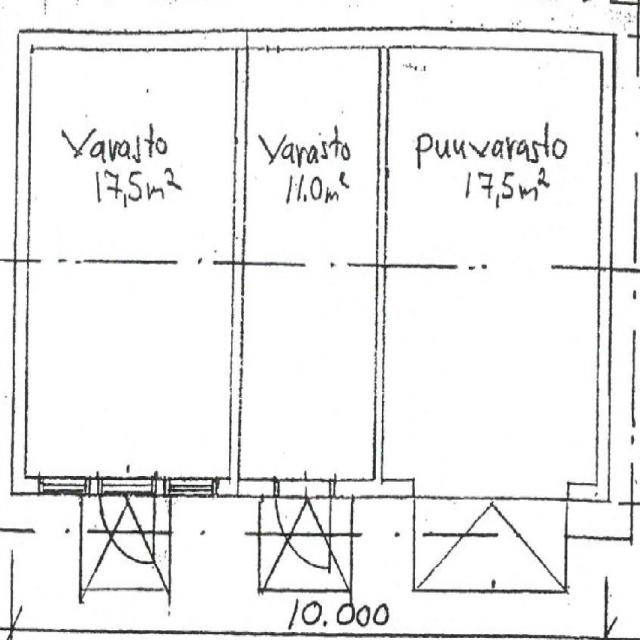door: (98, 480, 154, 581), (275, 480, 329, 580)
